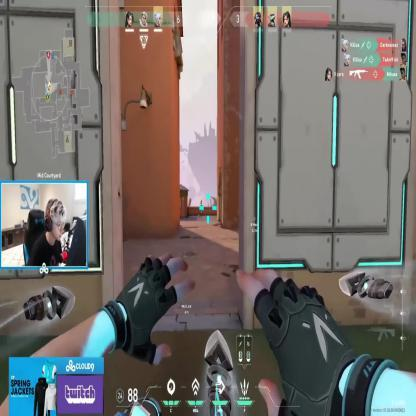enemy: (199, 198, 203, 219)
enemy_head: (200, 199, 202, 204)
